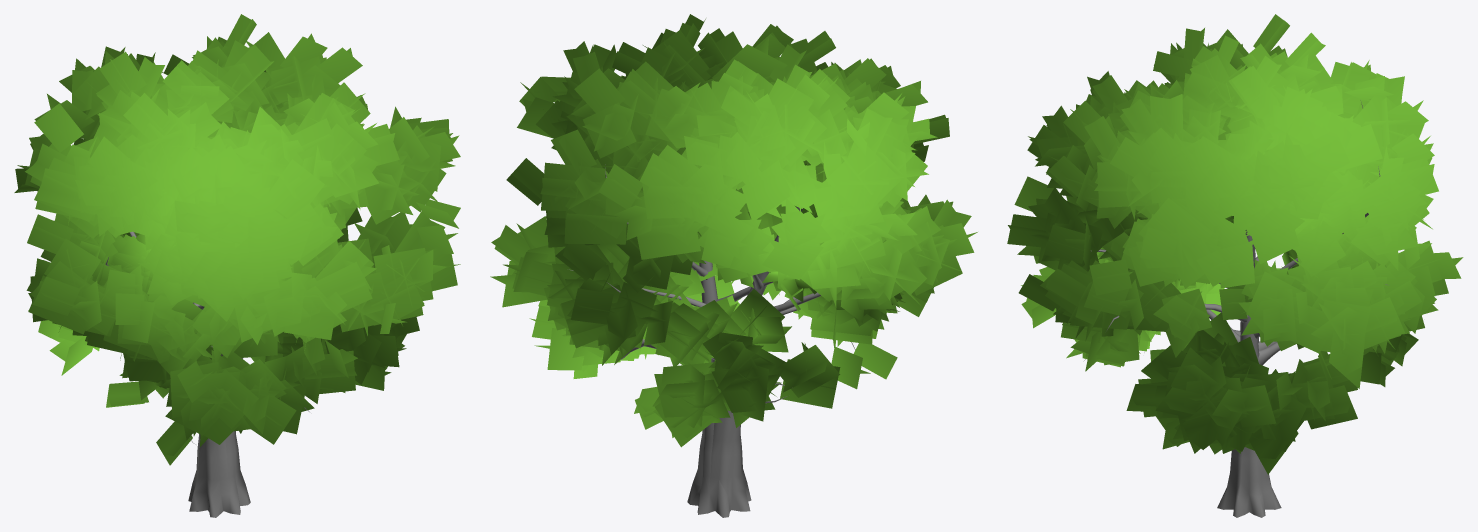
Rendered from SM_tree_oakleaf_02.fbx.
The picture shows the model from 3 angles, left to right: view 1: azimuth 30°, elevation 25°; view 2: azimuth 150°, elevation 25°; view 3: azimuth 270°, elevation 25°; orthographic projection. The views are drawn at different scales.
Visible parts, largest first — view 1: Object002; view 2: Object002; view 3: Object002.
Part boxes in pixels (box(x1,y1,x2,y2)): Object002: box(14, 14, 460, 517); Object002: box(490, 14, 977, 517); Object002: box(1007, 14, 1463, 517).
Bounding box in the file's own units: 595 × 584 × 553.
